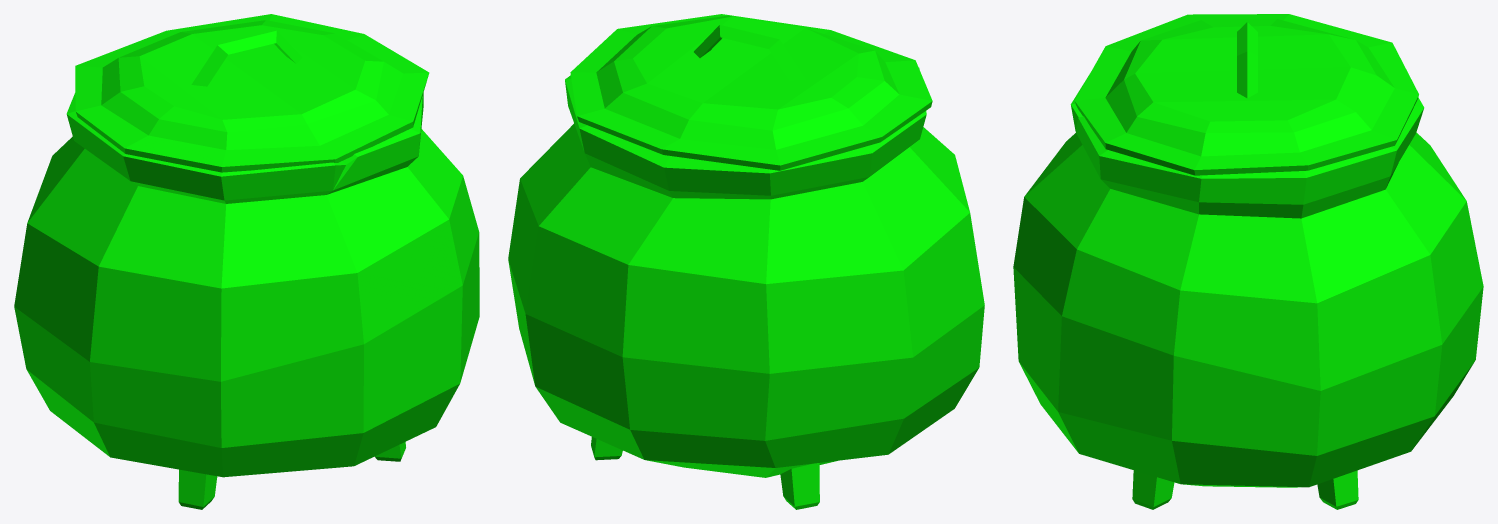
Rendered from SM_Cauldron_Big.fbx.
3 renders of one model, left to right at view 1: azimuth 30°, elevation 25°; view 2: azimuth 150°, elevation 25°; view 3: azimuth 270°, elevation 25°, orthographic. The views are drawn at different scales.
Visible parts, largest first — view 1: cauldron-big-base, cauldron-big-lid; view 2: cauldron-big-base, cauldron-big-lid; view 3: cauldron-big-base, cauldron-big-lid.
Part boxes in pixels (bbox=[...]): cauldron-big-base: bbox=[14, 93, 479, 509]; cauldron-big-lid: bbox=[75, 14, 429, 172]; cauldron-big-base: bbox=[508, 68, 984, 509]; cauldron-big-lid: bbox=[570, 14, 932, 170]; cauldron-big-base: bbox=[1013, 75, 1483, 509]; cauldron-big-lid: bbox=[1075, 14, 1418, 175].
Size of the model in its own units: 0.5149 by 0.5023 by 0.5123.
